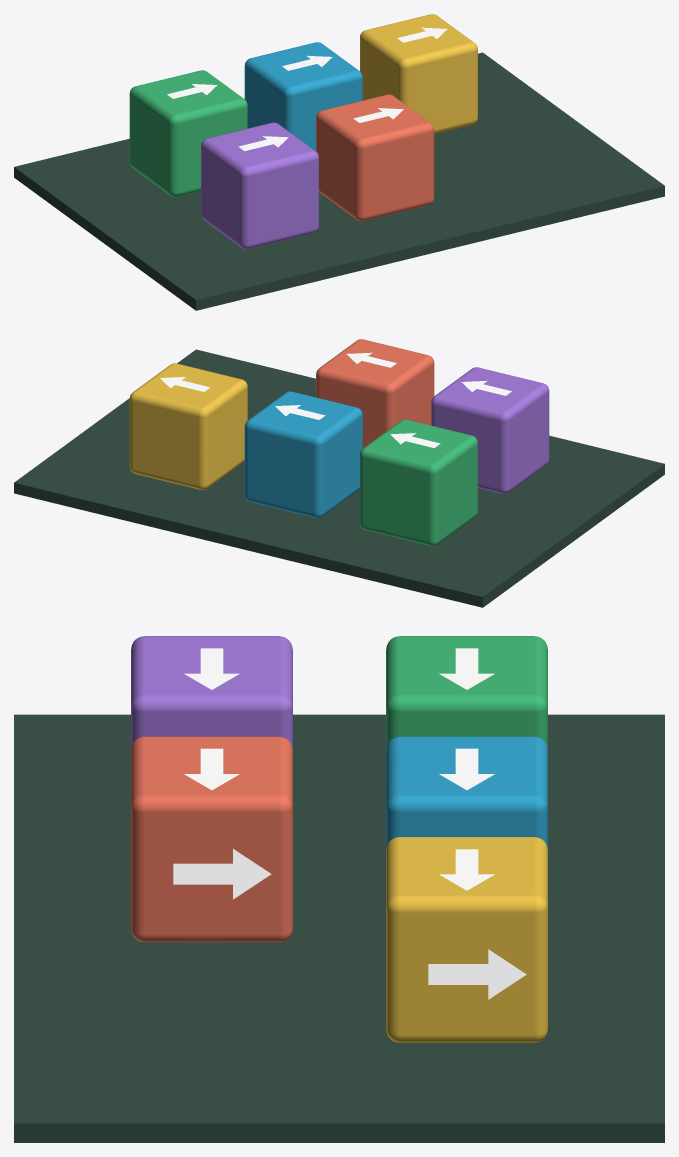
The model's file is tiny-block-kit.glb.
3 renders of one model, top to bottom at view 1: azimuth 30°, elevation 25°; view 2: azimuth 150°, elevation 25°; view 3: azimuth 270°, elevation 25°, orthographic. The views are drawn at different scales.
Visible parts, largest first — view 1: display-base, tiny-block-4, tiny-block-5, tiny-block-3, tiny-block-1, tiny-block-2; view 2: display-base, tiny-block-1, tiny-block-2, tiny-block-3, tiny-block-4, tiny-block-5; view 3: display-base, tiny-block-5, tiny-block-3, tiny-block-1, tiny-block-4, tiny-block-2, direction-glyph (×7).
Part boxes in pixels (x1=…): display-base: x1=14, y1=52, x2=664, y2=310; tiny-block-4: x1=201, y1=122, x2=318, y2=249; tiny-block-5: x1=316, y1=94, x2=434, y2=221; tiny-block-3: x1=360, y1=14, x2=477, y2=133; tiny-block-1: x1=129, y1=70, x2=247, y2=196; tiny-block-2: x1=244, y1=42, x2=362, y2=150; display-base: x1=14, y1=349, x2=664, y2=607; tiny-block-1: x1=360, y1=419, x2=477, y2=546; tiny-block-2: x1=244, y1=391, x2=362, y2=518; tiny-block-3: x1=129, y1=363, x2=247, y2=489; tiny-block-4: x1=431, y1=367, x2=549, y2=493; tiny-block-5: x1=316, y1=339, x2=434, y2=447; display-base: x1=14, y1=714, x2=664, y2=1142; tiny-block-5: x1=131, y1=736, x2=292, y2=942; tiny-block-3: x1=386, y1=837, x2=547, y2=1042; tiny-block-1: x1=386, y1=636, x2=547, y2=749; tiny-block-4: x1=131, y1=636, x2=292, y2=749; tiny-block-2: x1=386, y1=736, x2=547, y2=849; direction-glyph (×7): x1=173, y1=648, x2=526, y2=999.
Size of the model in its own units: 5.5 by 1.09 by 3.7.
